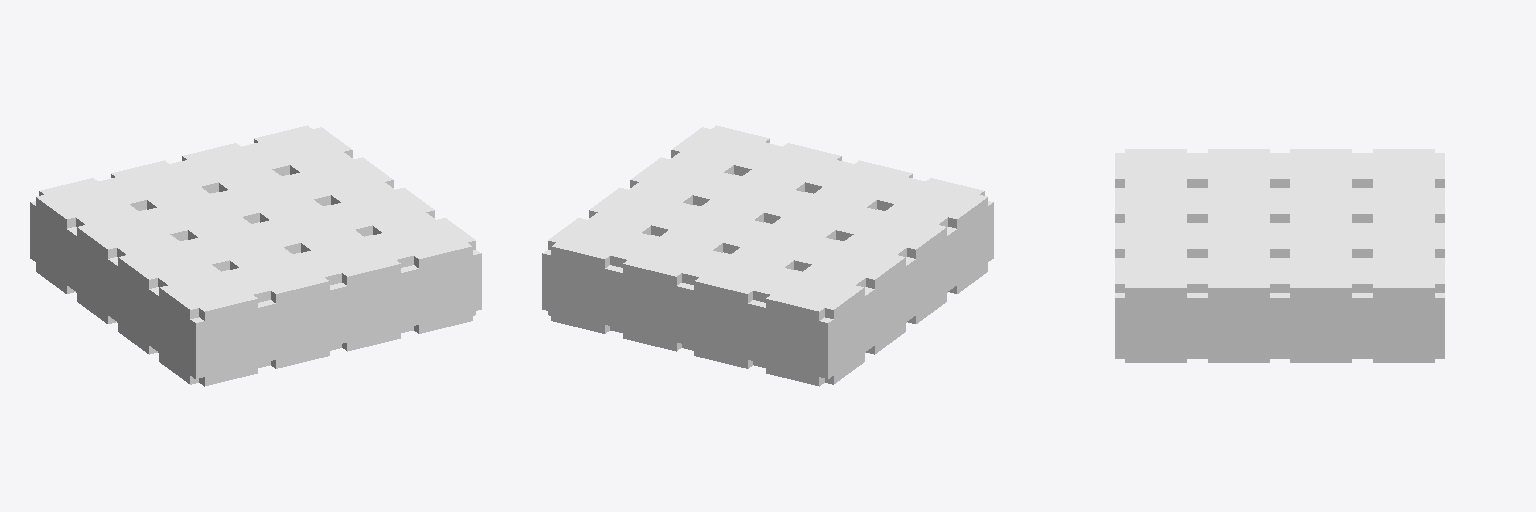
File: tetris_basic_wall.obj
The picture shows the model from 3 angles: view 1: azimuth 30°, elevation 25°; view 2: azimuth 150°, elevation 25°; view 3: azimuth 270°, elevation 25°; orthographic projection.
Visible parts, largest first — view 1: object 1; view 2: object 1; view 3: object 1.
Part boxes in pixels (x1,y1,x2,y2): object 1: (30, 125, 481, 386); object 1: (542, 125, 993, 386); object 1: (1115, 149, 1444, 362).
Size of the model in its own units: 3.2 by 0.8 by 3.2.